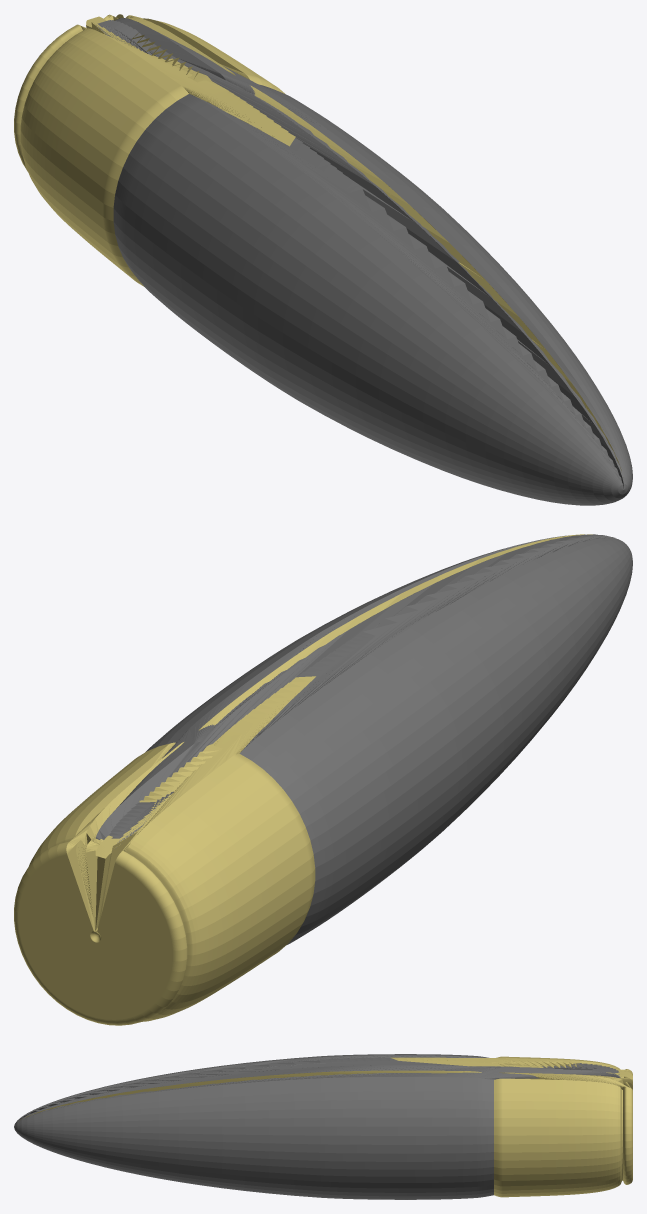
Rendered from projectile.obj.
3 views of the same model, one above another, from view 1: azimuth 30°, elevation 25°; view 2: azimuth 150°, elevation 25°; view 3: azimuth 270°, elevation 25° (orthographic). The views are drawn at different scales.
Visible parts, largest first — view 1: Linie01; view 2: Linie01; view 3: Linie01.
Boxes of the visible parts, box(x1,y1,x2,y2) form: Linie01: box(14, 14, 632, 505); Linie01: box(14, 534, 632, 1025); Linie01: box(14, 1054, 632, 1199).
Size of the model in its own units: 1.27 by 1.27 by 5.4.
